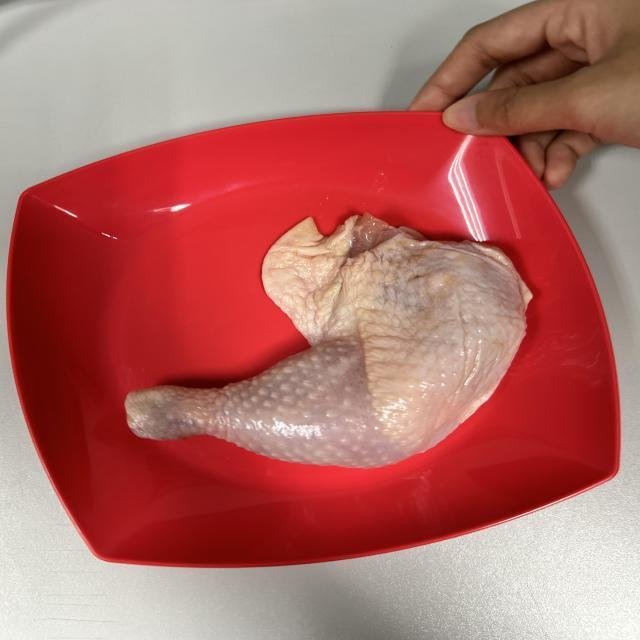quater: (126, 222, 533, 479)
